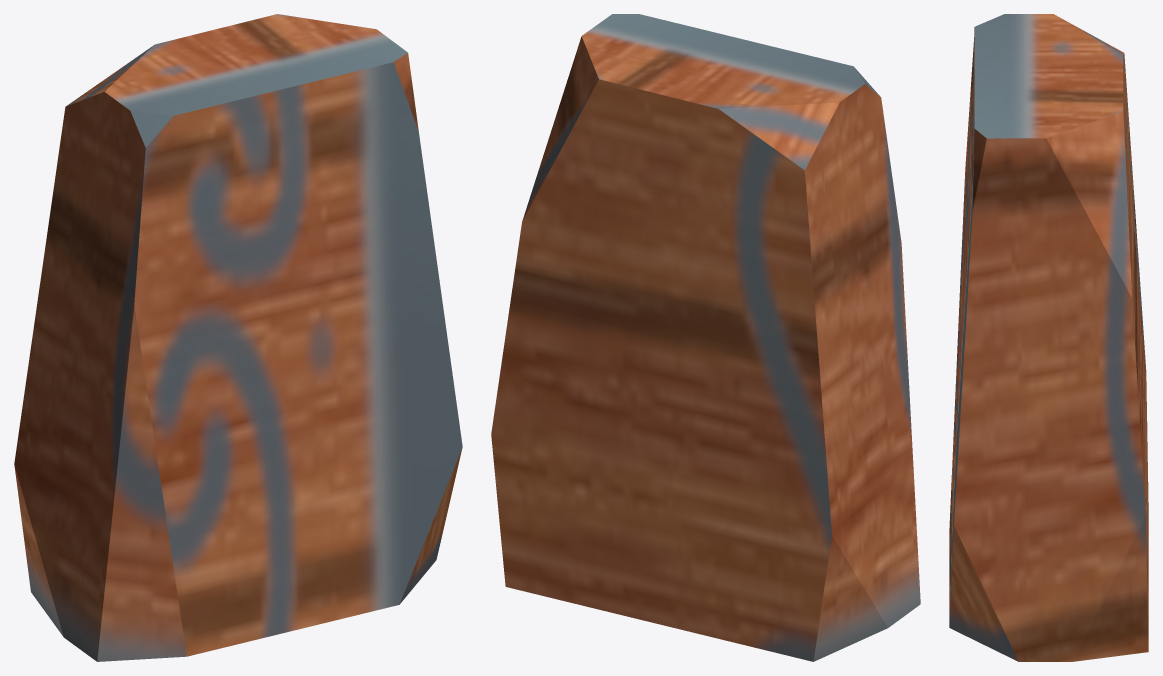
The model's file is Kamen_normal2.fbx.
The picture shows the model from 3 angles, left to right: view 1: azimuth 30°, elevation 25°; view 2: azimuth 150°, elevation 25°; view 3: azimuth 270°, elevation 25°; orthographic projection. The views are drawn at different scales.
Visible parts, largest first — view 1: Kamen_normal2; view 2: Kamen_normal2; view 3: Kamen_normal2.
Boxes of the visible parts, x1=… form: Kamen_normal2: x1=14, y1=14, x2=462, y2=661; Kamen_normal2: x1=491, y1=14, x2=920, y2=661; Kamen_normal2: x1=949, y1=14, x2=1148, y2=661.
Bounding box in the file's own units: 13.91 × 19.68 × 7.06.
